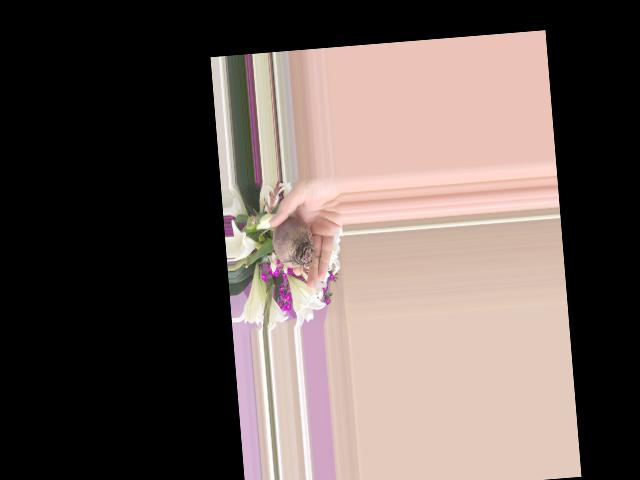beet: (258, 214, 315, 270)
